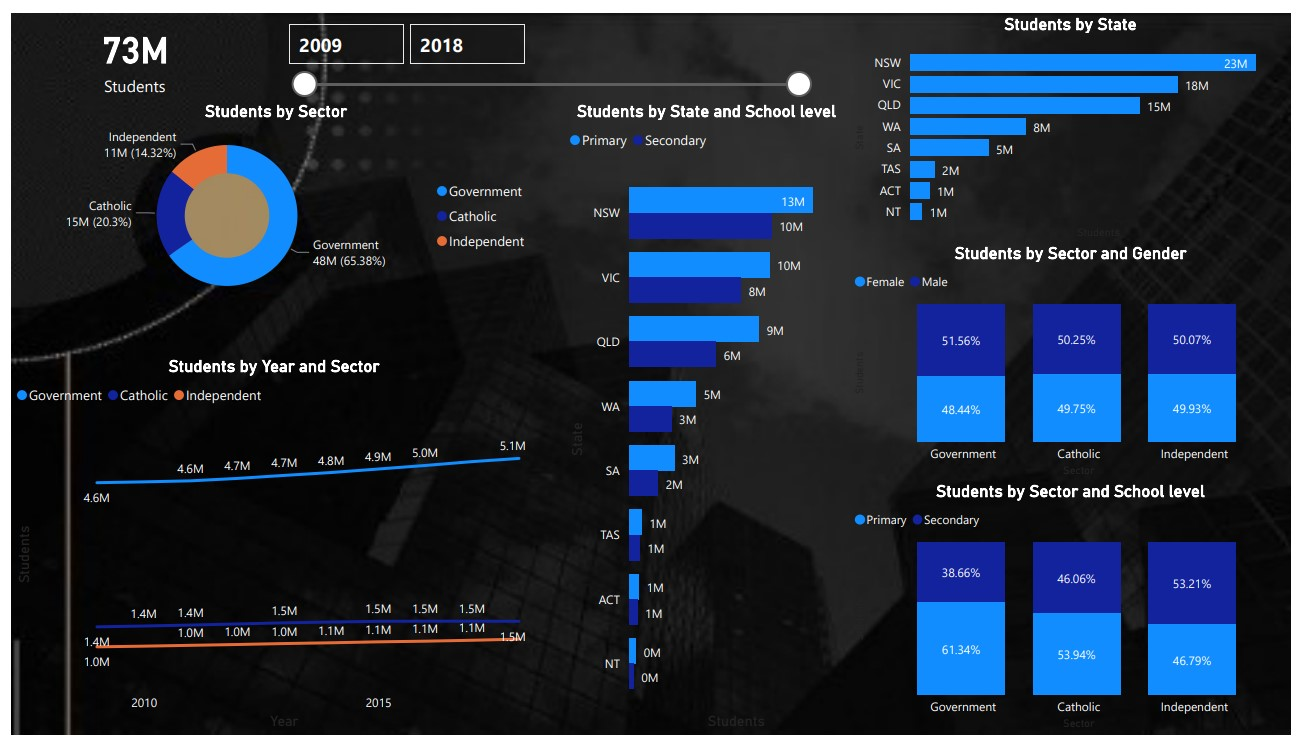

This screenshot's page, from the dashboard's own definition file:
{"tool":"powerbi","page":{"name":"Students","canvas":[1280,720],"ordinal":0},"visuals":[{"type":"card","fields":{"Values":["Sum(Students.Students)"]},"box":[0,0,247.9,87.4],"z":0},{"type":"donutChart","fields":{"Y":["Sum(Students.Students)"],"Category":["DimSchoolSector.Sector"]},"box":[1.6,87.4,526.1,209.8],"z":1000},{"type":"clusteredBarChart","fields":{"Y":["Sum(Students.Students)"],"Category":["DImStates.State"]},"box":[837.6,0,443.4,228.9],"z":3000},{"type":"lineChart","fields":{"Y":["Sum(Students.Students)"],"Category":["DimDates.Year"],"Series":["DimSchoolSector.Sector"]},"box":[0,341.7,526.1,378.3],"z":4000},{"type":"clusteredBarChart","fields":{"Y":["Sum(Students.Students)"],"Category":["DImStates.State"],"Series":["Students.School level"]},"box":[553.1,87.4,284.5,632.6],"z":6000},{"type":"hundredPercentStackedColumnChart","fields":{"Category":["DimSchoolSector.Sector"],"Y":["Sum(Students.Students)"],"Series":["Students.Gender"]},"box":[837.6,228.9,443.4,238.4],"z":7000},{"type":"hundredPercentStackedColumnChart","fields":{"Category":["DimSchoolSector.Sector"],"Y":["Sum(Students.Students)"],"Series":["Students.School level"]},"box":[837.6,467.3,443.4,252.7],"z":8000},{"type":"slicer","fields":{"Values":["DimDates.Year"]},"box":[265.4,0,543.6,85.8],"z":9000}]}

Visuals, with their boxes in screenshot pixels (x1, y1, x2, y2), scaled from the page's 1280x720 canvas onto the 1302x749 screenshot:
card - Sum(Students.Students): [left=0, top=0, right=252, bottom=91]
donutChart - Sum(Students.Students) x DimSchoolSector.Sector: [left=2, top=91, right=537, bottom=309]
clusteredBarChart - Sum(Students.Students) x DImStates.State: [left=852, top=0, right=1301, bottom=238]
lineChart - Sum(Students.Students) x DimDates.Year: [left=0, top=355, right=535, bottom=748]
clusteredBarChart - Sum(Students.Students) x DImStates.State: [left=563, top=91, right=852, bottom=748]
hundredPercentStackedColumnChart - DimSchoolSector.Sector x Sum(Students.Students): [left=852, top=238, right=1301, bottom=486]
hundredPercentStackedColumnChart - DimSchoolSector.Sector x Sum(Students.Students): [left=852, top=486, right=1301, bottom=748]
slicer - DimDates.Year: [left=270, top=0, right=823, bottom=89]
